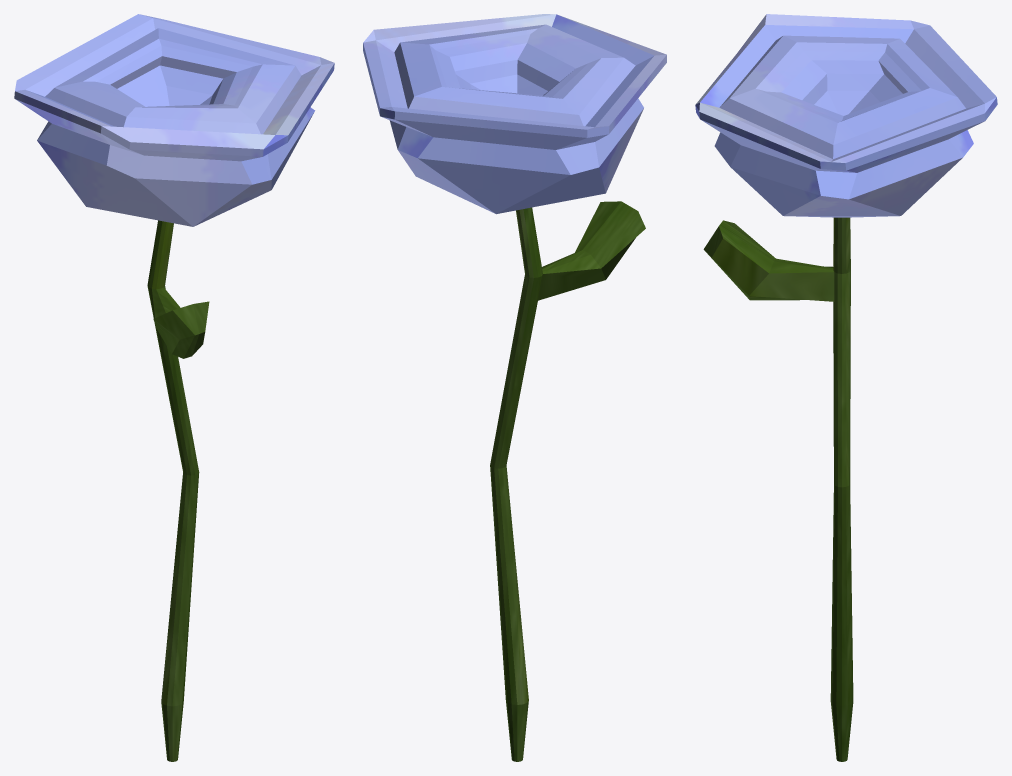
The model's file is blue_rose.fbx.
3 views of the same model, side by side, from view 1: azimuth 30°, elevation 25°; view 2: azimuth 150°, elevation 25°; view 3: azimuth 270°, elevation 25° (orthographic). The views are drawn at different scales.
Visible parts, largest first — view 1: Cylinder; view 2: Cylinder; view 3: Cylinder.
Part boxes in pixels (x1,y1,x2,y2): Cylinder: (14, 14, 334, 761); Cylinder: (363, 14, 666, 761); Cylinder: (695, 14, 997, 761).
Bounding box in the file's own units: 54.85 × 131 × 51.84.
